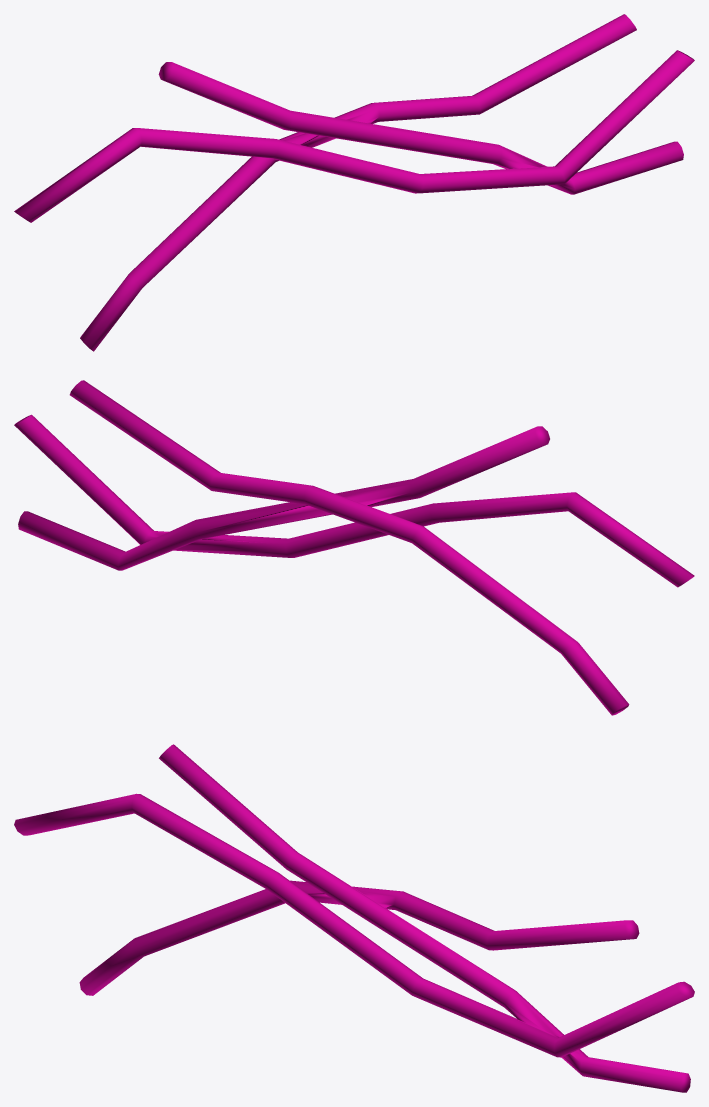
The model's file is fiber.fbx.
The picture shows the model from 3 angles, top to bottom: view 1: azimuth 30°, elevation 25°; view 2: azimuth 150°, elevation 25°; view 3: azimuth 330°, elevation 25°; orthographic projection.
Parts seen in each view (by area): view 1: Fiber; view 2: Fiber; view 3: Fiber.
Boxes of the visible parts, x1,y1,x2,y2 form: Fiber: (14, 14, 694, 351); Fiber: (14, 380, 694, 715); Fiber: (14, 744, 694, 1092).
Size of the model in its own units: 93.82 by 35.64 by 5.47.
